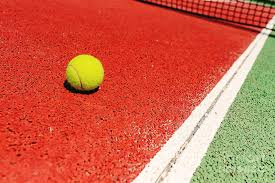tennis_ball: (65, 53, 104, 91)
